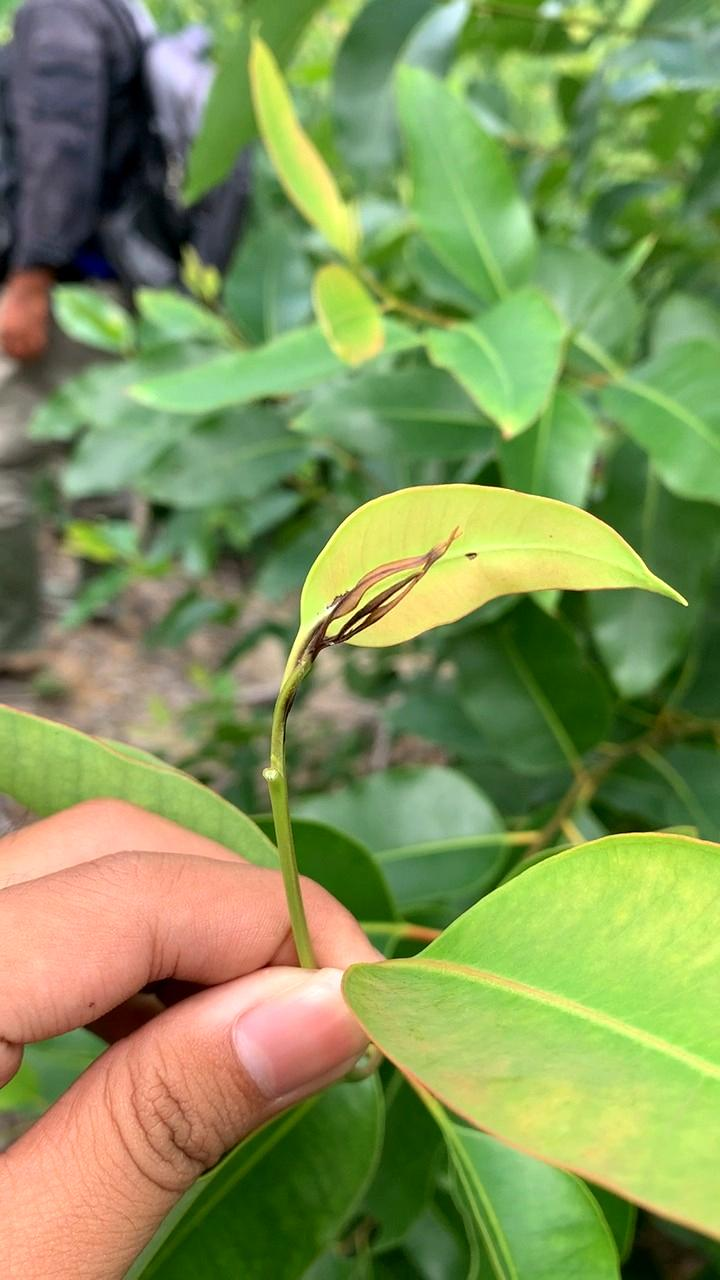Ganoderma - Fruit Body: (296, 523, 471, 665)
